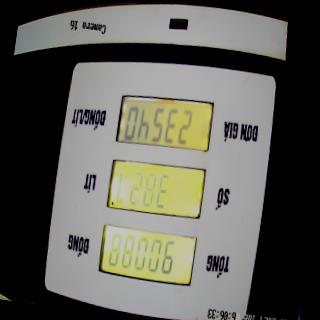screen: (94, 83, 217, 292)
